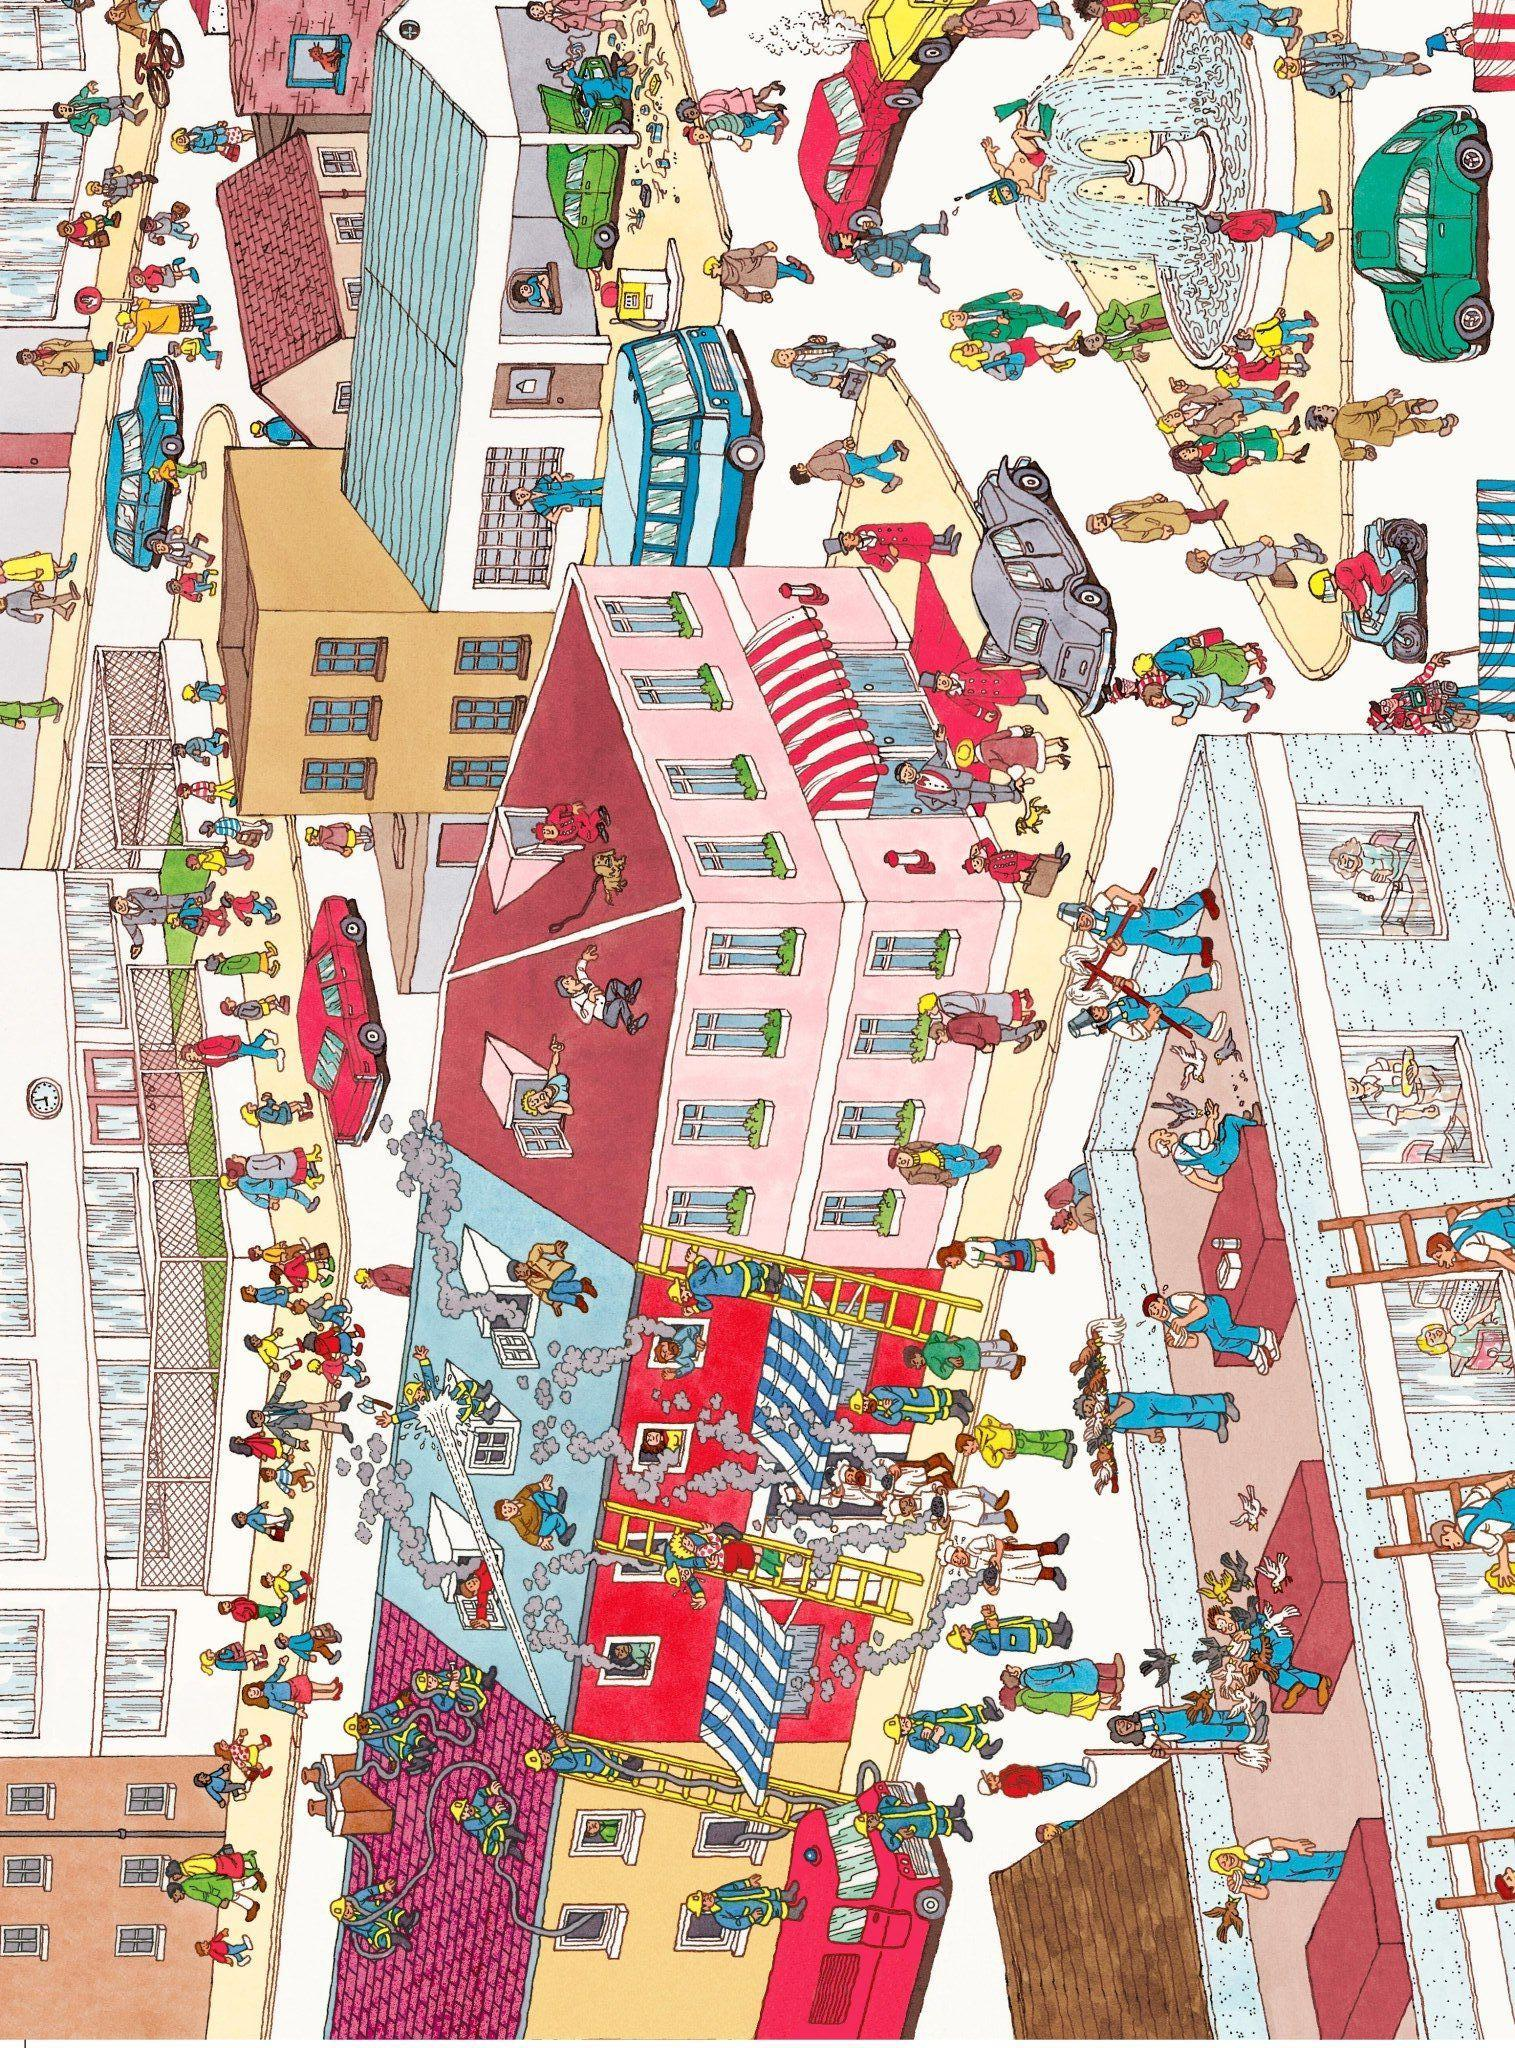waldos: (1369, 644, 1515, 734)
